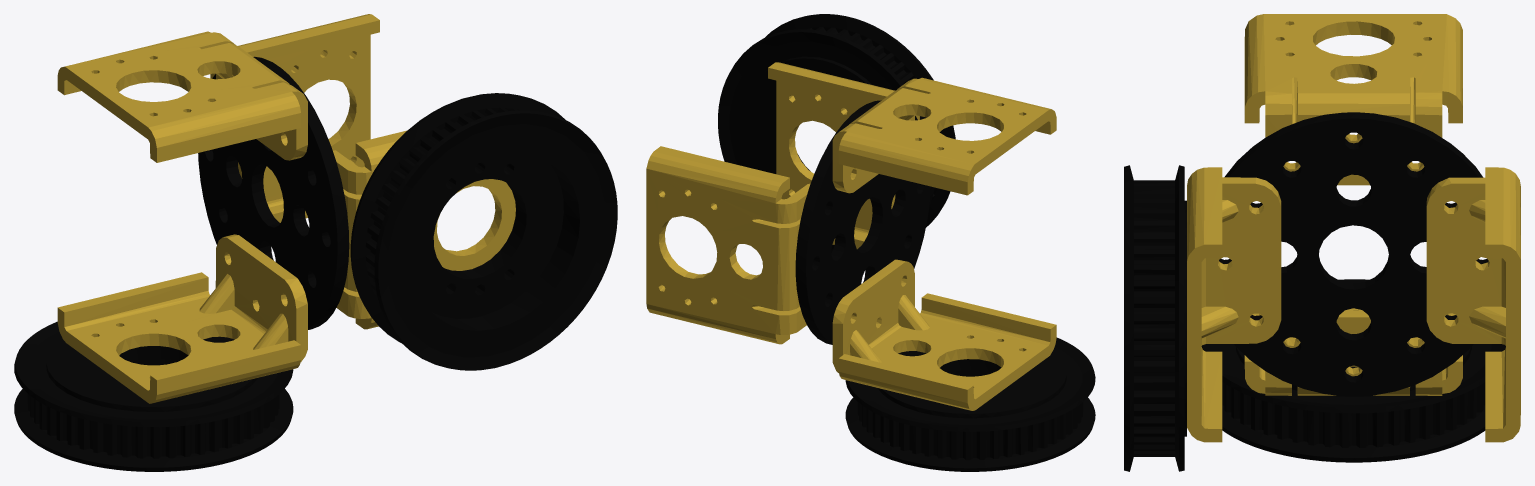
The model's file is joint_junction_link_belt.dae.
3 views of the same model, side by side, from view 1: azimuth 30°, elevation 25°; view 2: azimuth 150°, elevation 25°; view 3: azimuth 270°, elevation 25° (orthographic). The views are drawn at different scales.
Visible parts, largest first — view 1: joint_junction_link_belt_black, joint_junction_link_gold; view 2: joint_junction_link_gold, joint_junction_link_belt_black; view 3: joint_junction_link_belt_black, joint_junction_link_gold.
Part boxes in pixels (box(x1,y1,x2,y2)): joint_junction_link_belt_black: box(14, 56, 617, 471); joint_junction_link_gold: box(57, 14, 515, 403); joint_junction_link_gold: box(646, 62, 1056, 410); joint_junction_link_belt_black: box(718, 14, 1095, 471); joint_junction_link_belt_black: box(1124, 112, 1505, 471); joint_junction_link_gold: box(1187, 14, 1520, 442).
Bounding box in the file's own units: 0.1035 × 0.0672 × 0.0672.
